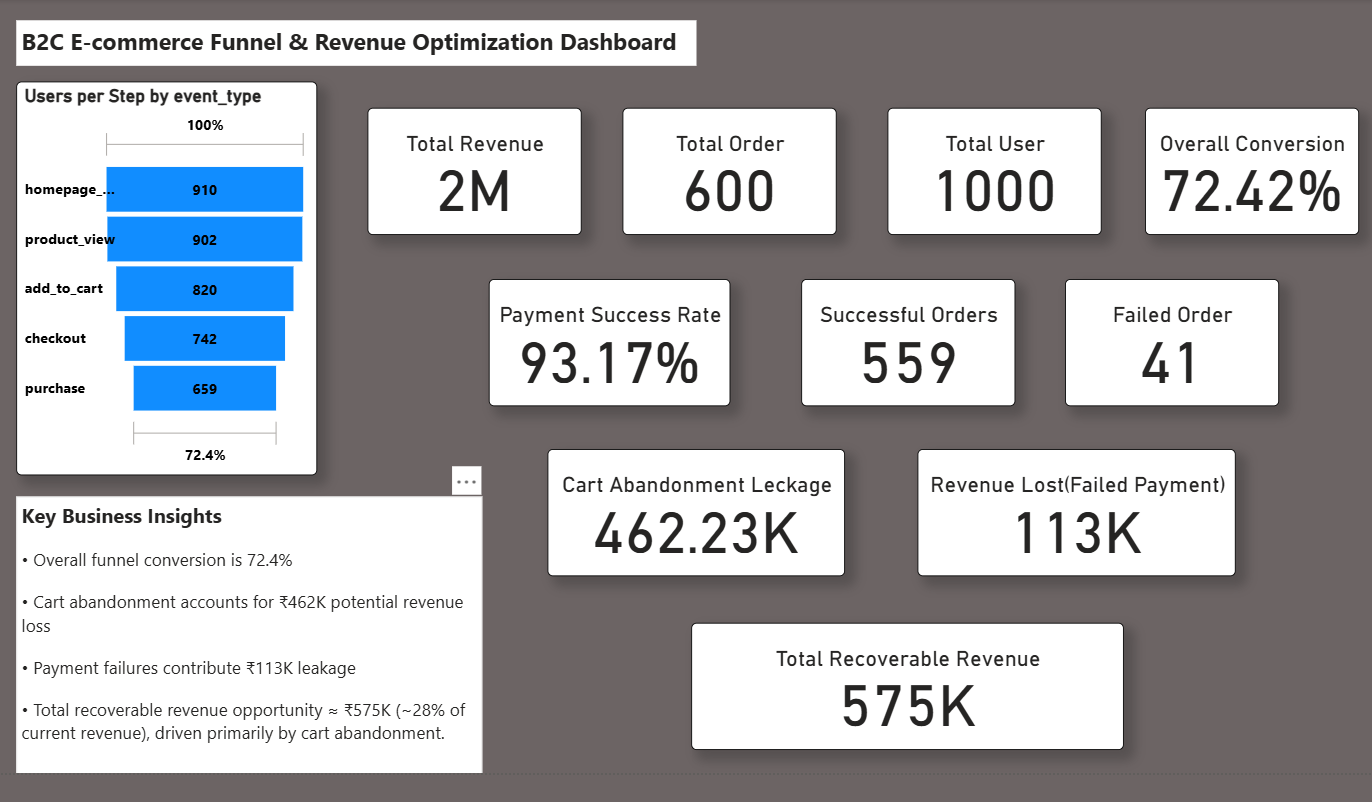

Layout of this report page (visuals, bound fields, positions):
{"tool":"powerbi","page":{"name":"Page 1","canvas":[1280,720],"ordinal":0},"visuals":[{"type":"funnel","fields":{"Category":["events.event_type"],"Y":["sessions.Users per Step"]},"box":[15.1,76.8,279.9,366.4],"z":0},{"type":"textbox","box":[15.1,462.4,433.6,258],"z":1000},{"type":"card","title":"Total Revenue","fields":{"Values":["orders.Total Revenue"]},"box":[341.7,101.5,199,118],"z":2000},{"type":"card","title":"Total Order","fields":{"Values":["orders.Total Orders"]},"box":[579.1,101.5,199,118],"z":3000},{"type":"card","title":"Total User","fields":{"Values":["users.Total Users"]},"box":[826.1,101.5,199,118],"z":4000},{"type":"card","title":"Overall Conversion","fields":{"Values":["sessions.Overall Conversion"]},"box":[1064.8,101.5,199,118],"z":5000},{"type":"card","title":"Payment Success Rate","fields":{"Values":["orders.Payment Success Rate"]},"box":[454.2,260.7,225,118],"z":6000},{"type":"card","title":"Successful Orders","fields":{"Values":["orders.Successful Orders"]},"box":[745.1,260.7,199,118],"z":7000},{"type":"card","title":"Failed Order","fields":{"Values":["orders.Failed Orders"]},"box":[990.7,260.7,199,118],"z":8000},{"type":"card","title":"Cart Abandonment Leckage","fields":{"Values":["sessions.Cart Abandonment Leakage"]},"box":[509.1,418.5,277.2,118],"z":9000},{"type":"card","title":"Revenue Lost(Failed Payment)","fields":{"Values":["orders.Revenue Lost (Failed Payments)"]},"box":[853.5,418.5,296.4,118],"z":10000},{"type":"card","title":"Total Recoverable Revenue","fields":{"Values":["sessions.Total Recoverable Revenue"]},"box":[643.6,580.4,402.1,118],"z":11000},{"type":"textbox","box":[15.1,19.2,632.6,42.5],"z":12000}]}

Visuals, with their boxes in screenshot pixels (x1, y1, x2, y2):
funnel - events.event_type x sessions.Users per Step: 16, 81, 312, 468
textbox: 16, 489, 474, 762
"Total Revenue" card: 361, 107, 572, 232
"Total Order" card: 612, 107, 822, 232
"Total User" card: 873, 107, 1084, 232
"Overall Conversion" card: 1126, 107, 1336, 232
"Payment Success Rate" card: 480, 276, 718, 400
"Successful Orders" card: 788, 276, 998, 400
"Failed Order" card: 1047, 276, 1258, 400
"Cart Abandonment Leckage" card: 538, 442, 831, 567
"Revenue Lost(Failed Payment)" card: 902, 442, 1216, 567
"Total Recoverable Revenue" card: 680, 614, 1105, 738
textbox: 16, 20, 685, 65
